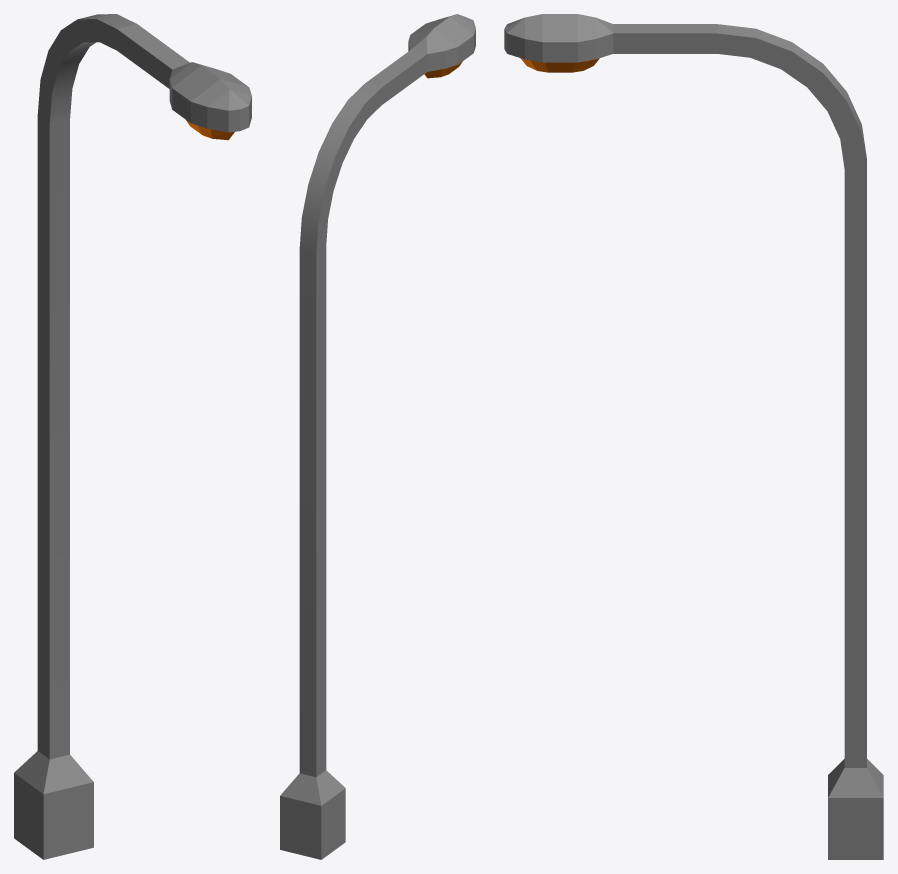
Rendered from StreetLamp_01.FBX.
3 renders of one model, left to right at view 1: azimuth 30°, elevation 25°; view 2: azimuth 150°, elevation 25°; view 3: azimuth 270°, elevation 25°, orthographic. The views are drawn at different scales.
Visible parts, largest first — view 1: StreetLamp_01; view 2: StreetLamp_01; view 3: StreetLamp_01.
Part boxes in pixels (x1=…): StreetLamp_01: x1=14, y1=14, x2=251, y2=859; StreetLamp_01: x1=280, y1=14, x2=475, y2=859; StreetLamp_01: x1=504, y1=14, x2=883, y2=859.
Bounding box in the file's own units: 0.5311 × 7.69 × 3.17.
